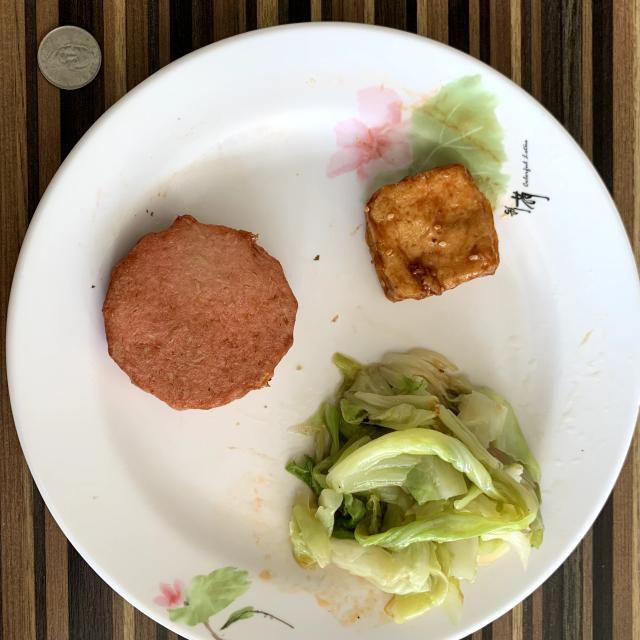Spam: (102, 215, 298, 410)
cabbage: (290, 350, 540, 622)
coin: (38, 26, 101, 90)
creamy tofu: (365, 164, 499, 301)
